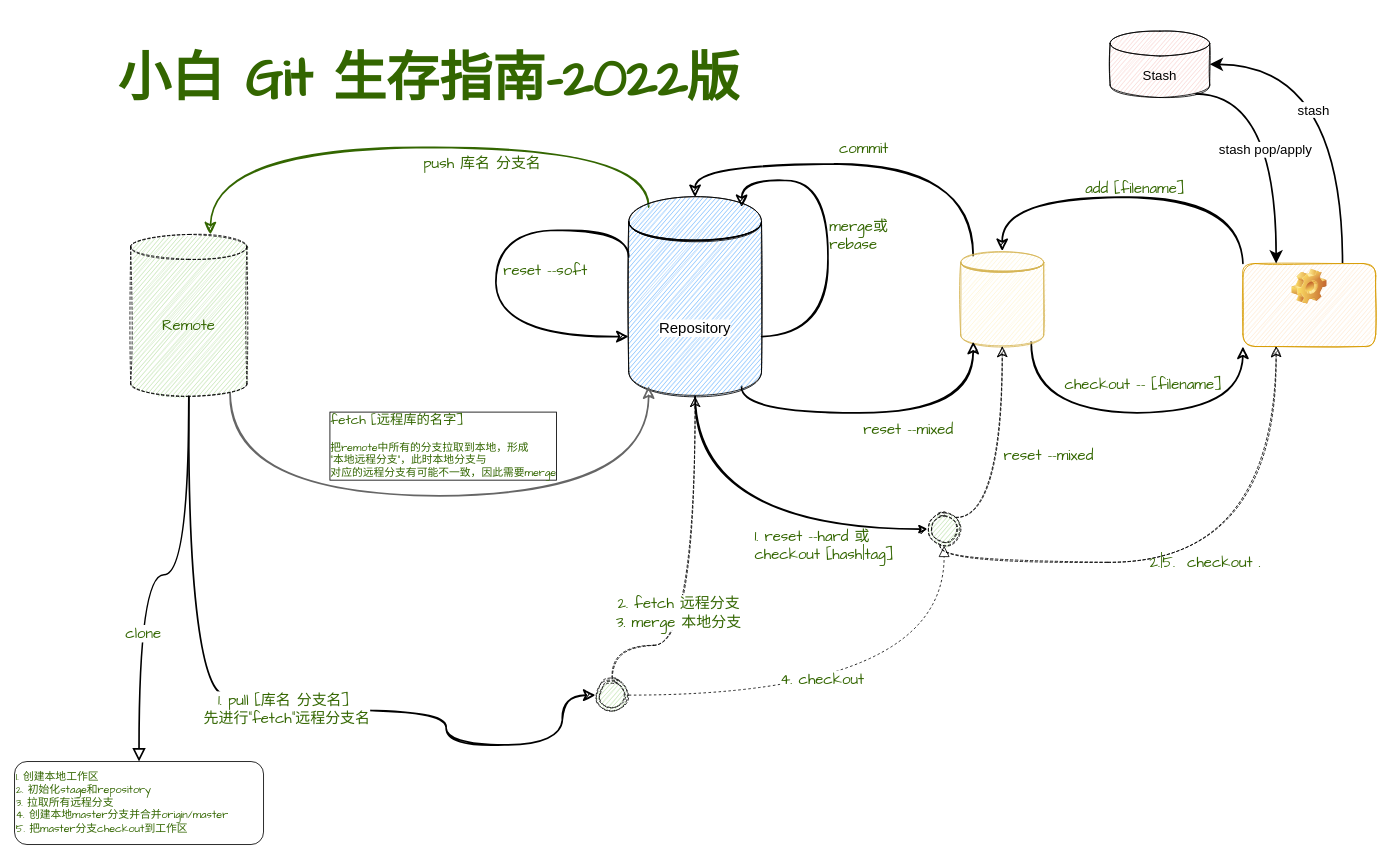
Some shapes in this 1390 by 859 pixel diagram are drawn without their labels. The centre of each missing label's shape, as x and y in pixels:
"Stage" goes at (x=1002, y=298).
"WorkSpace" goes at (x=1309, y=305).
